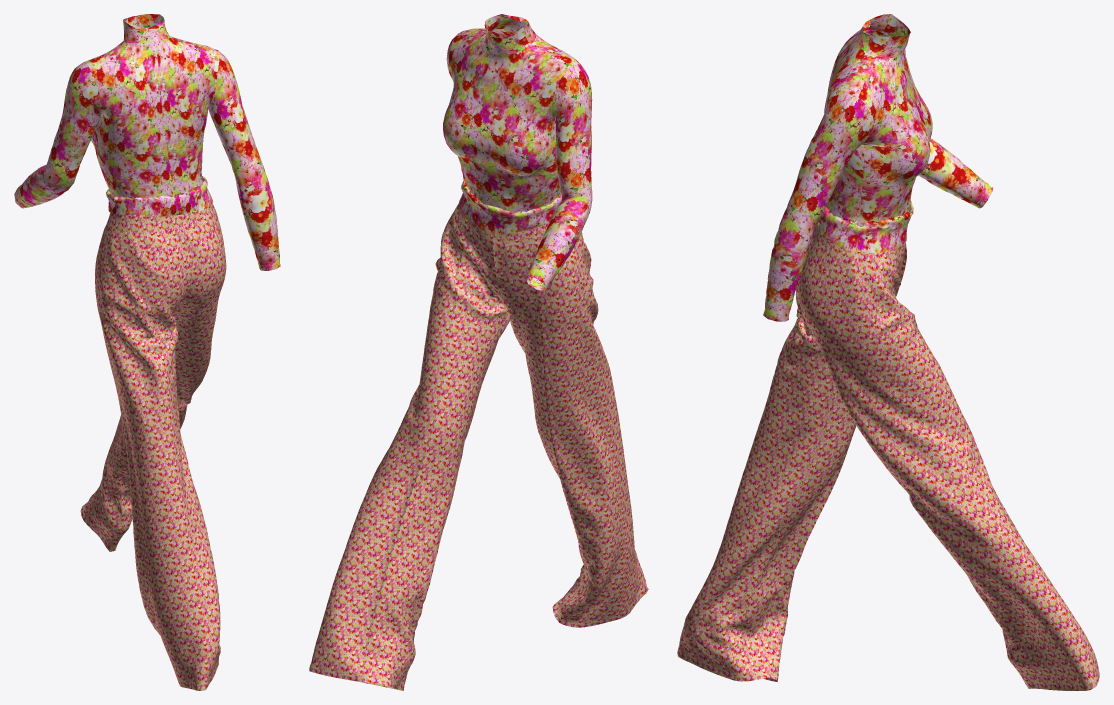
File: DA_HighNeck+WidePants_0000189.obj
The picture shows the model from 3 angles, left to right: view 1: azimuth 30°, elevation 25°; view 2: azimuth 150°, elevation 25°; view 3: azimuth 270°, elevation 25°; orthographic projection. The views are drawn at different scales.
Bounding box in the file's own units: 0.4987 × 1.6 × 0.9206.
